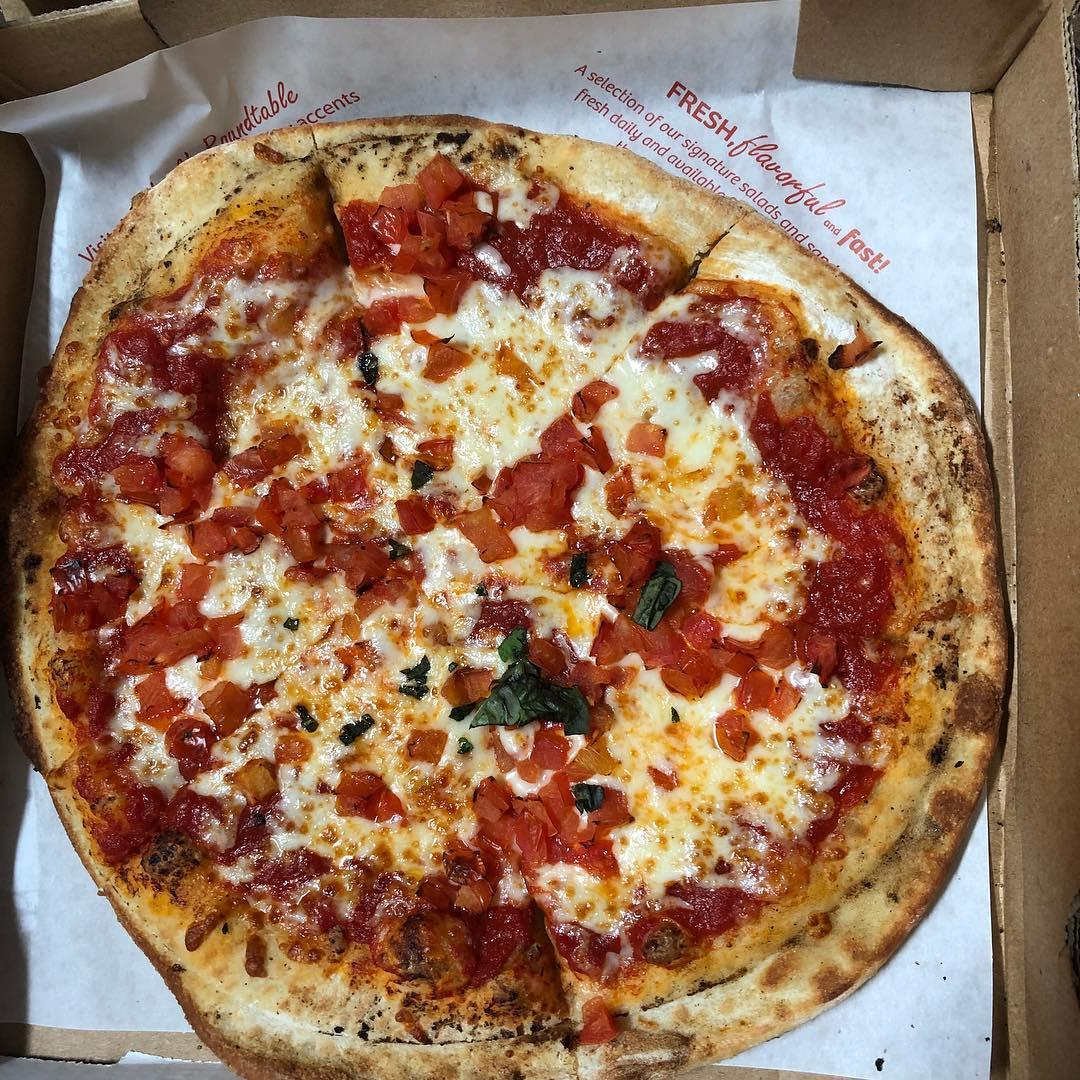Pizza: (0, 120, 1017, 1080)
Tomatoes: (615, 527, 724, 693), (489, 380, 609, 529), (341, 162, 483, 274), (266, 478, 393, 586), (476, 782, 625, 867), (124, 565, 241, 672), (118, 435, 212, 518)
